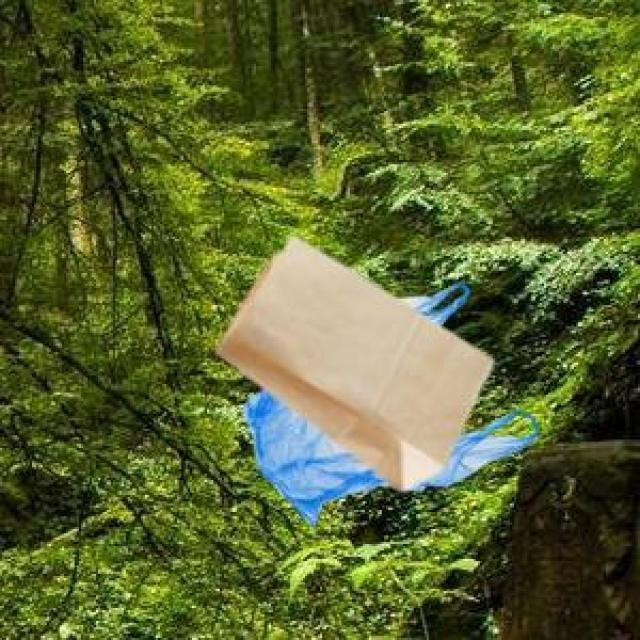paper: (211, 233, 489, 486)
